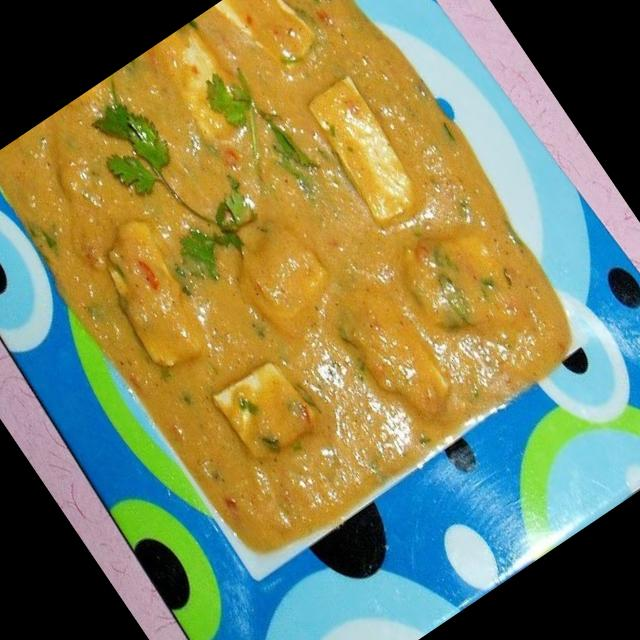ShahiPaneer: (0, 0, 603, 577)
